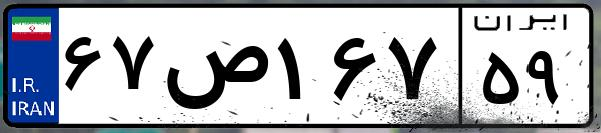1: (270, 28, 330, 110)
5: (475, 38, 525, 113)
6: (330, 28, 385, 110), (57, 26, 110, 100)
7: (385, 28, 445, 110), (110, 28, 158, 98)
9: (525, 38, 570, 115)
ص: (158, 20, 270, 120)
